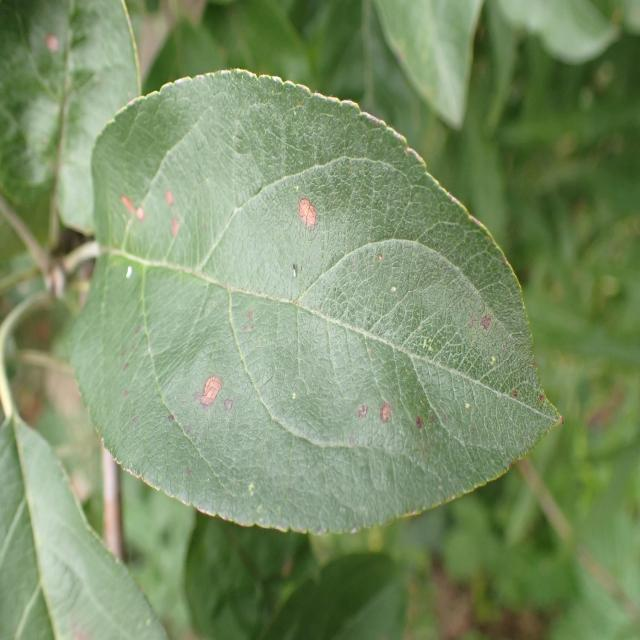Black Rot: (169, 346, 233, 421), (290, 137, 326, 258), (160, 162, 183, 263), (120, 183, 157, 242), (350, 398, 398, 439)
